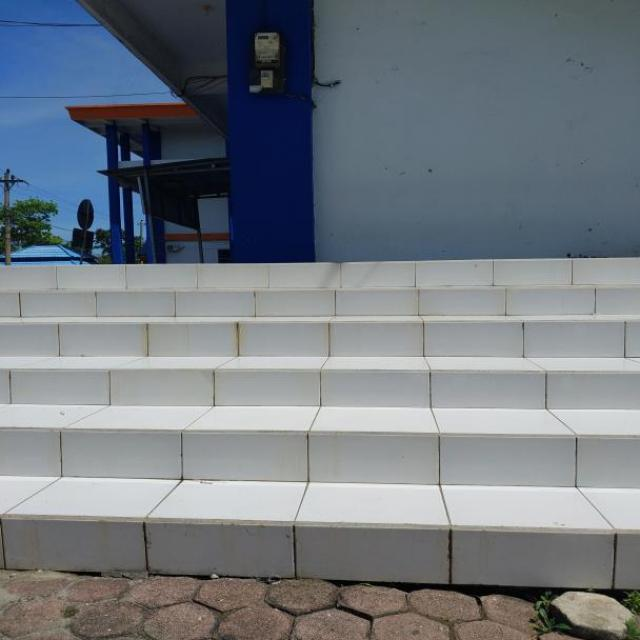stairs ahead at: (9, 262, 637, 577)
